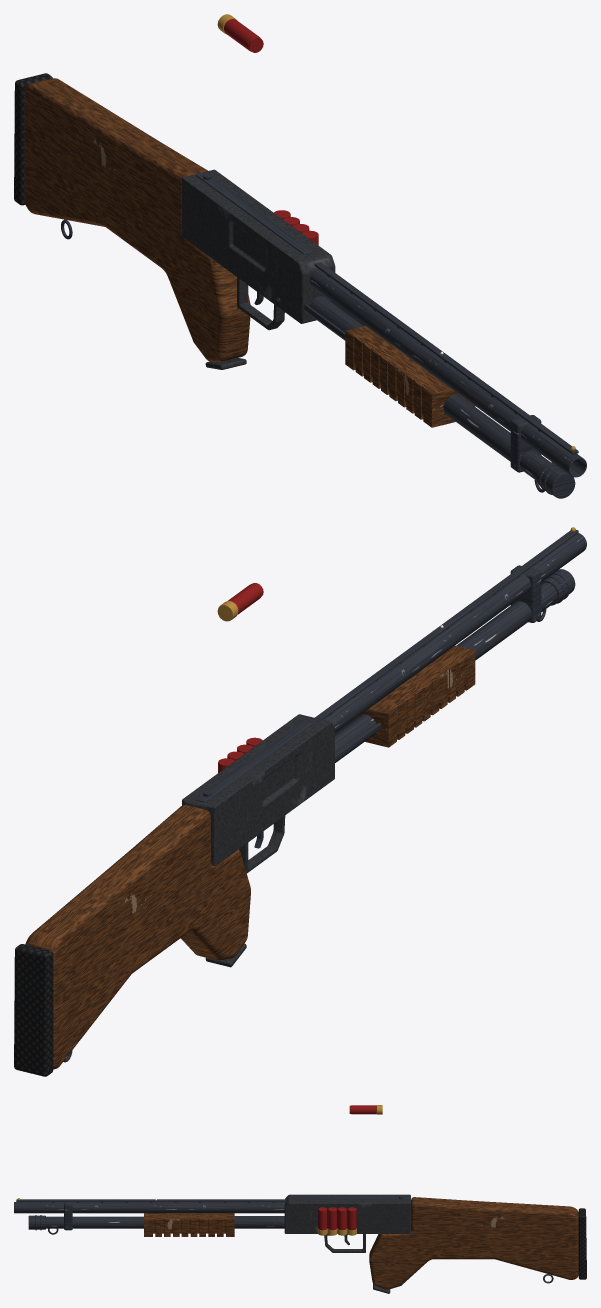
Rendered from gun_pump.glb.
3 views of the same model, one above another, from view 1: azimuth 30°, elevation 25°; view 2: azimuth 150°, elevation 25°; view 3: azimuth 270°, elevation 25° (orthographic). The views are drawn at different scales.
Visible parts, largest first — view 1: gun_pump, pump, x_shell; view 2: gun_pump, pump, x_shell; view 3: gun_pump, pump, x_shell.
Part boxes in pixels (x1,y1,x2,y2): gun_pump: (14, 73, 586, 498); pump: (304, 301, 475, 427); x_shell: (217, 14, 263, 52); gun_pump: (14, 527, 586, 1076); pump: (335, 645, 475, 761); x_shell: (217, 583, 263, 621); gun_pump: (14, 1194, 586, 1293); pump: (144, 1213, 284, 1236); x_shell: (349, 1105, 382, 1114).
Bounding box in the file's own units: 0.0708 × 0.4174 × 1.17.
8 materials, 5 textured.
